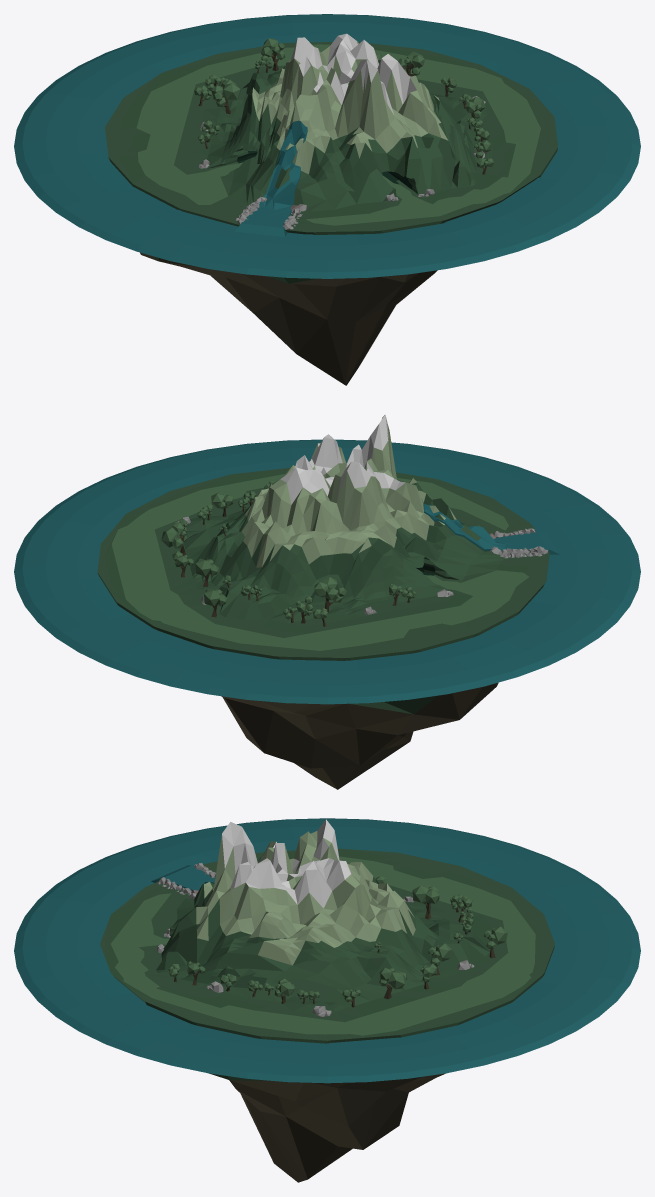
The model's file is landscape.gltf.
The picture shows the model from 3 angles, top to bottom: view 1: azimuth 30°, elevation 25°; view 2: azimuth 150°, elevation 25°; view 3: azimuth 270°, elevation 25°; orthographic projection.
Visible parts, largest first — view 1: water, terrain-grass, terrain-road, terrain-underground, terrain-under_cliff, terrain-cliff, leaf, waterfall, stone, tree-base; view 2: water, terrain-grass, terrain-road, terrain-under_cliff, terrain-underground, terrain-cliff, leaf, waterfall, stone, tree-base; view 3: water, terrain-grass, terrain-road, terrain-under_cliff, terrain-underground, terrain-cliff, leaf, stone, waterfall, tree-base.
Boxes of the visible parts, <box> form: water: <box>14,14,640,278</box>; terrain-grass: <box>105,42,557,283</box>; terrain-road: <box>136,44,540,225</box>; terrain-underground: <box>140,252,437,385</box>; terrain-under_cliff: <box>252,41,448,174</box>; terrain-cliff: <box>290,33,416,115</box>; leaf: <box>194,38,494,167</box>; waterfall: <box>235,120,307,237</box>; stone: <box>199,96,487,229</box>; tree-base: <box>198,49,486,174</box>; water: <box>14,439,640,704</box>; terrain-grass: <box>97,468,549,714</box>; terrain-road: <box>111,474,528,650</box>; terrain-under_cliff: <box>241,424,456,567</box>; terrain-underground: <box>221,683,496,789</box>; terrain-cliff: <box>280,414,405,504</box>; leaf: <box>161,481,415,619</box>; waterfall: <box>422,500,559,554</box>; stone: <box>178,516,548,614</box>; tree-base: <box>179,500,410,626</box>; water: <box>14,818,640,1083</box>; terrain-grass: <box>100,848,554,1080</box>; terrain-road: <box>111,856,535,1035</box>; terrain-under_cliff: <box>196,831,415,965</box>; terrain-underground: <box>229,1073,445,1182</box>; terrain-cliff: <box>222,819,351,908</box>; leaf: <box>168,876,507,1002</box>; stone: <box>157,863,474,1016</box>; waterfall: <box>151,857,261,891</box>; tree-base: <box>174,901,495,1007</box>.
Bounding box in the file's own units: 275 × 171 × 275.
